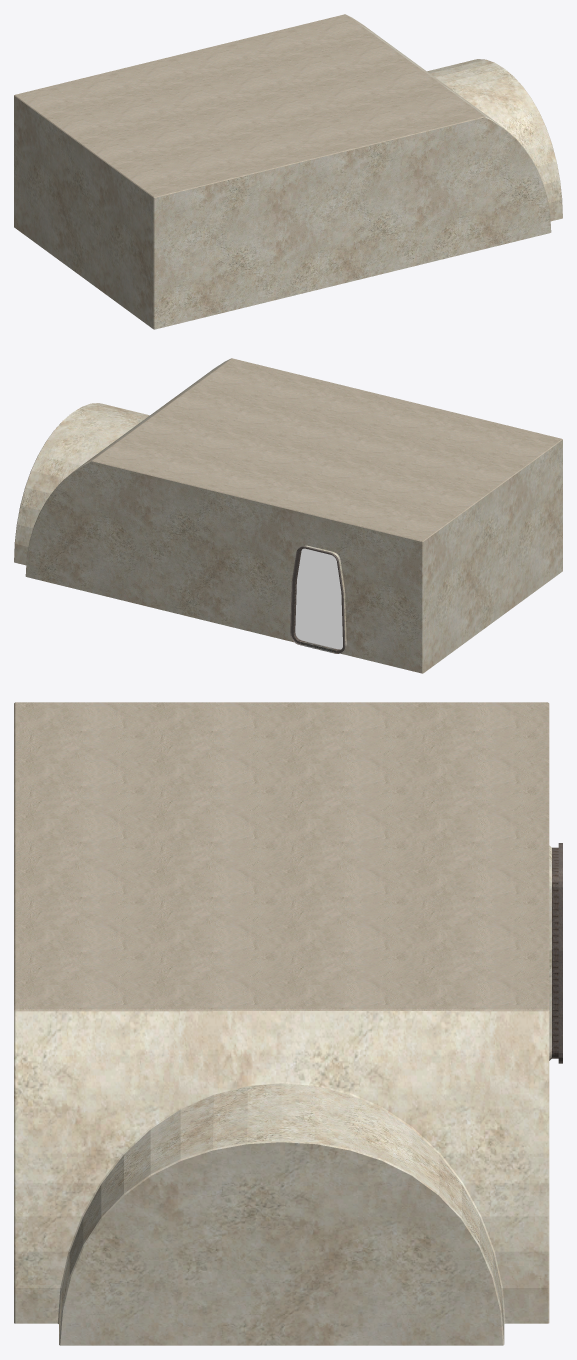
File: thm_tato_house_m_s01_fp1_r11_bedroom4_mesh_r11.fbx
The picture shows the model from 3 angles, top to bottom: view 1: azimuth 30°, elevation 25°; view 2: azimuth 150°, elevation 25°; view 3: azimuth 270°, elevation 25°; orthographic projection. The views are drawn at different scales.
Visible parts, largest first — view 1: mesh_node; view 2: mesh_node; view 3: mesh_node.
Boxes of the visible parts, x1,y1,x2,y2 form: mesh_node: [14, 14, 562, 329]; mesh_node: [14, 358, 562, 673]; mesh_node: [14, 702, 562, 1345].
Size of the model in its own units: 14.16 by 4.25 by 8.39.
